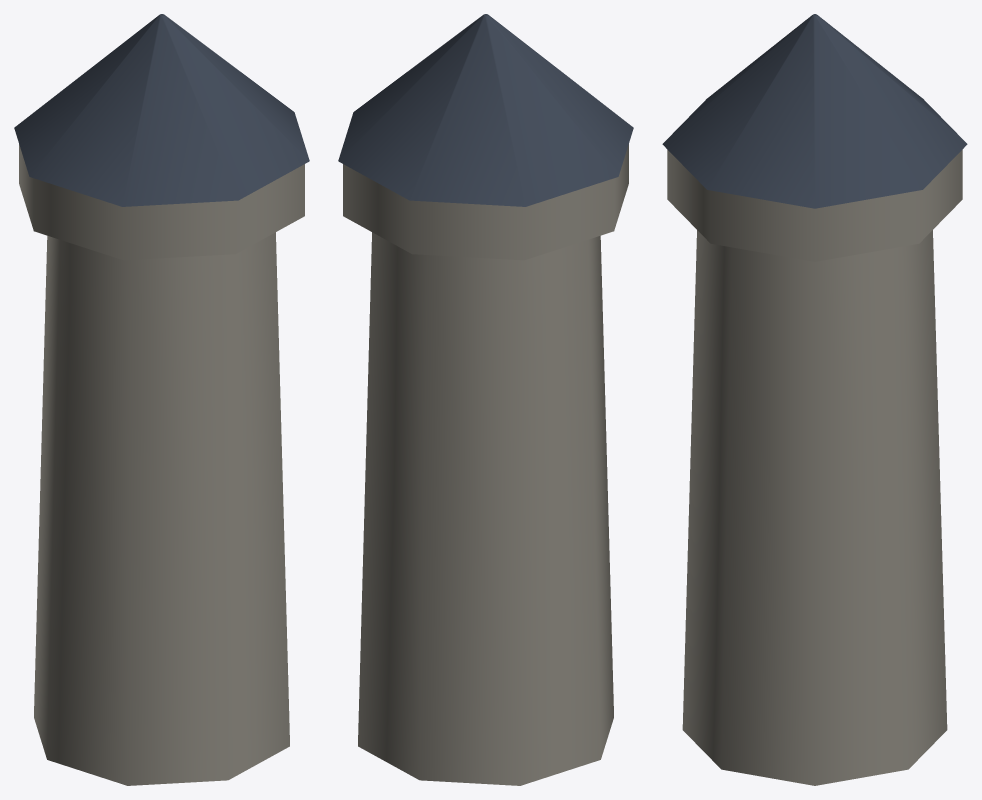
Rendered from bld_special_tower_a03_lod1.glb.
The picture shows the model from 3 angles, left to right: view 1: azimuth 30°, elevation 25°; view 2: azimuth 150°, elevation 25°; view 3: azimuth 270°, elevation 25°; orthographic projection.
Parts seen in each view (by area): view 1: body; view 2: body; view 3: body.
Part boxes in pixels (bbox=[...]): body: bbox=[14, 14, 309, 785]; body: bbox=[338, 14, 633, 785]; body: bbox=[662, 14, 967, 785].
Bounding box in the file's own units: 6 × 15.5 × 6.
